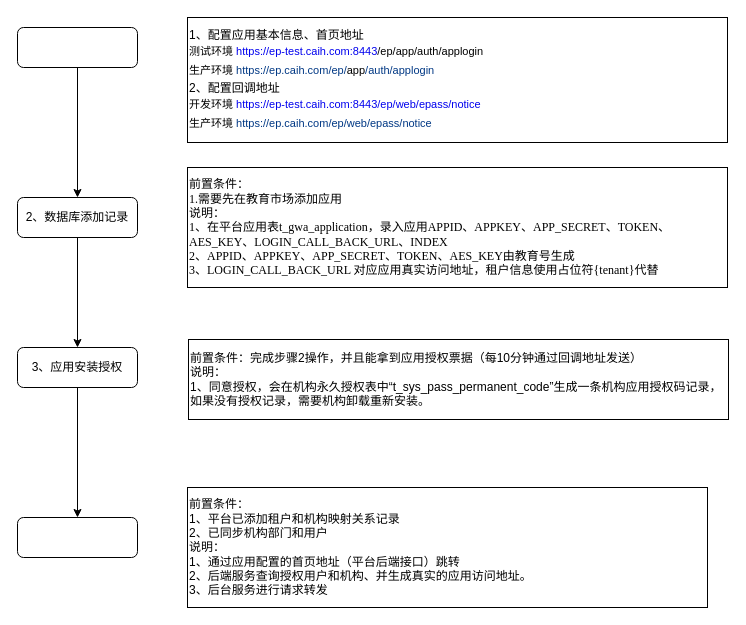
Image size: 746x625. Some labels were removed from this diagram. Each missing label, with the centre of its shape:
1、教育市场添加应用: point 77,47
4、应用使用: point 77,537
